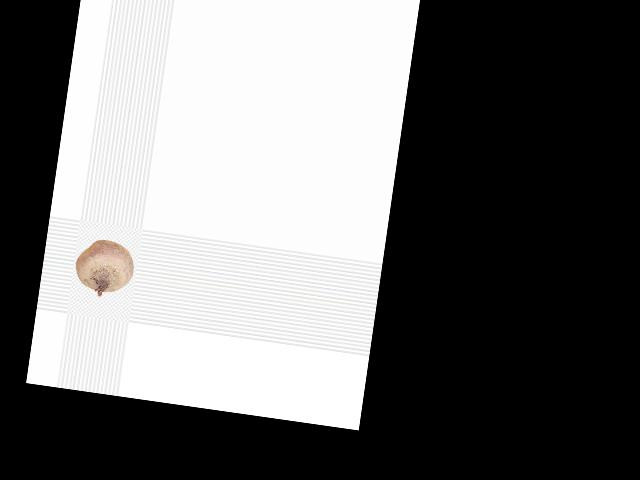beet: (71, 236, 136, 301)
